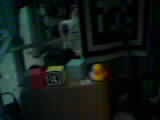duck: (87, 55, 114, 81)
